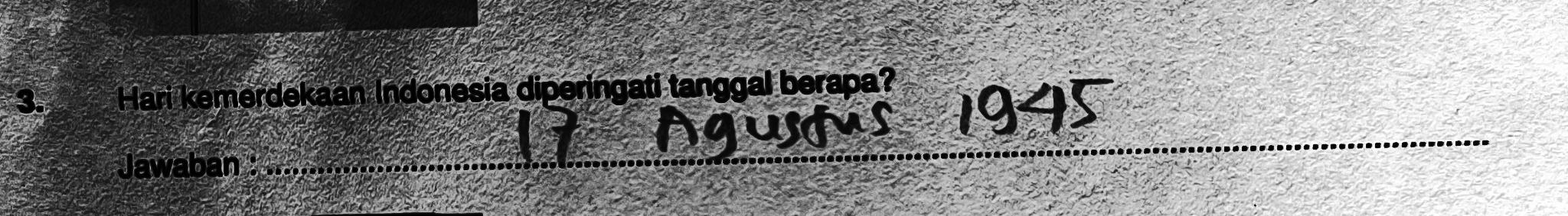jawaban: (655, 99, 894, 165), (954, 70, 1116, 136), (517, 105, 579, 166)
